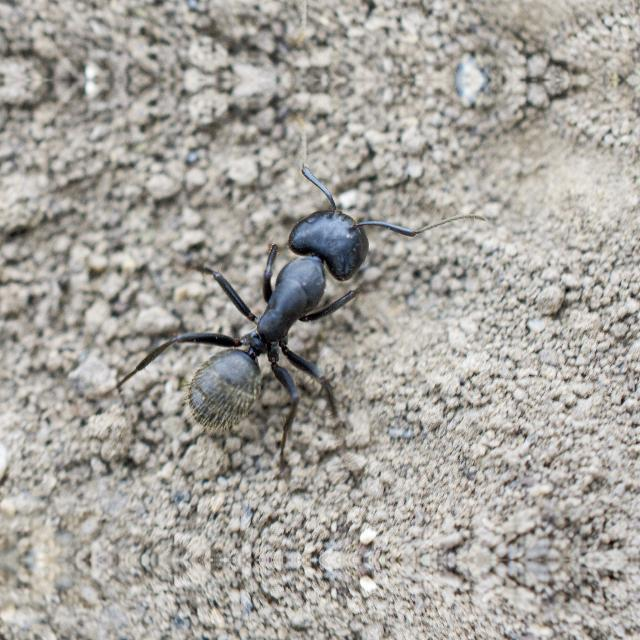Camponotus: (148, 156, 412, 448)
